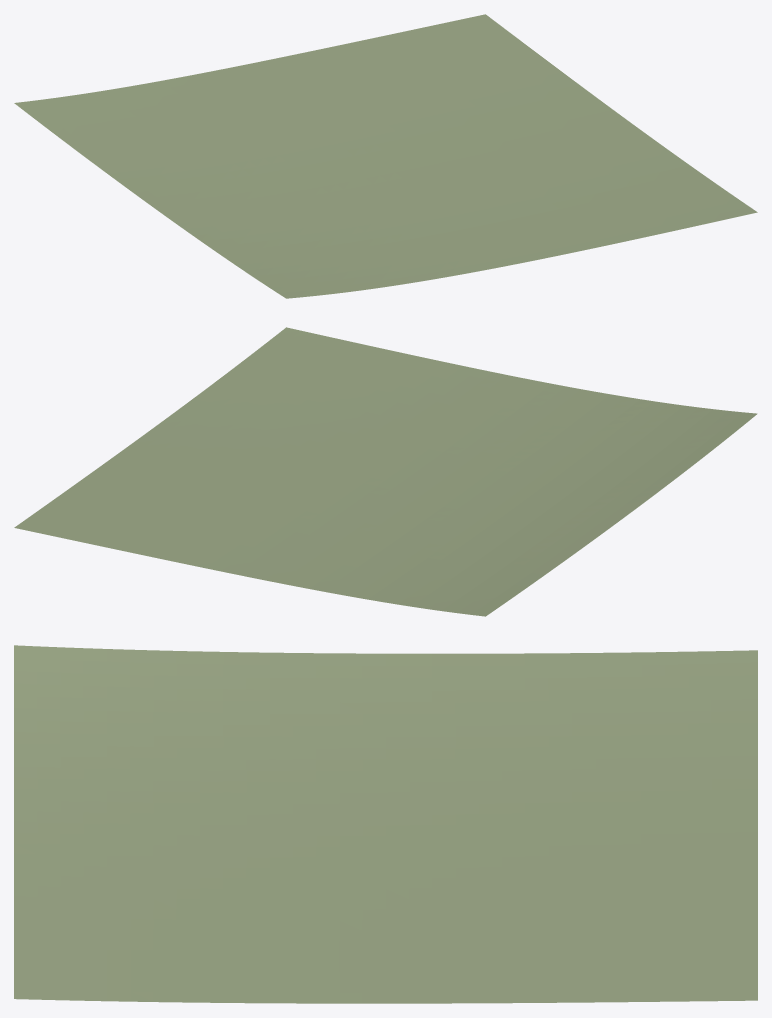
The model's file is expanse-23-25.glb.
3 renders of one model, top to bottom at view 1: azimuth 30°, elevation 25°; view 2: azimuth 150°, elevation 25°; view 3: azimuth 270°, elevation 25°, orthographic. The views are drawn at different scales.
Visible parts, largest first — view 1: expanse-23-25; view 2: expanse-23-25; view 3: expanse-23-25.
Part boxes in pixels (x1,y1,x2,y2): expanse-23-25: (14,14,757,298); expanse-23-25: (14,327,757,616); expanse-23-25: (14,645,757,1003).
Size of the model in its own units: 256 by 16.67 by 256.
